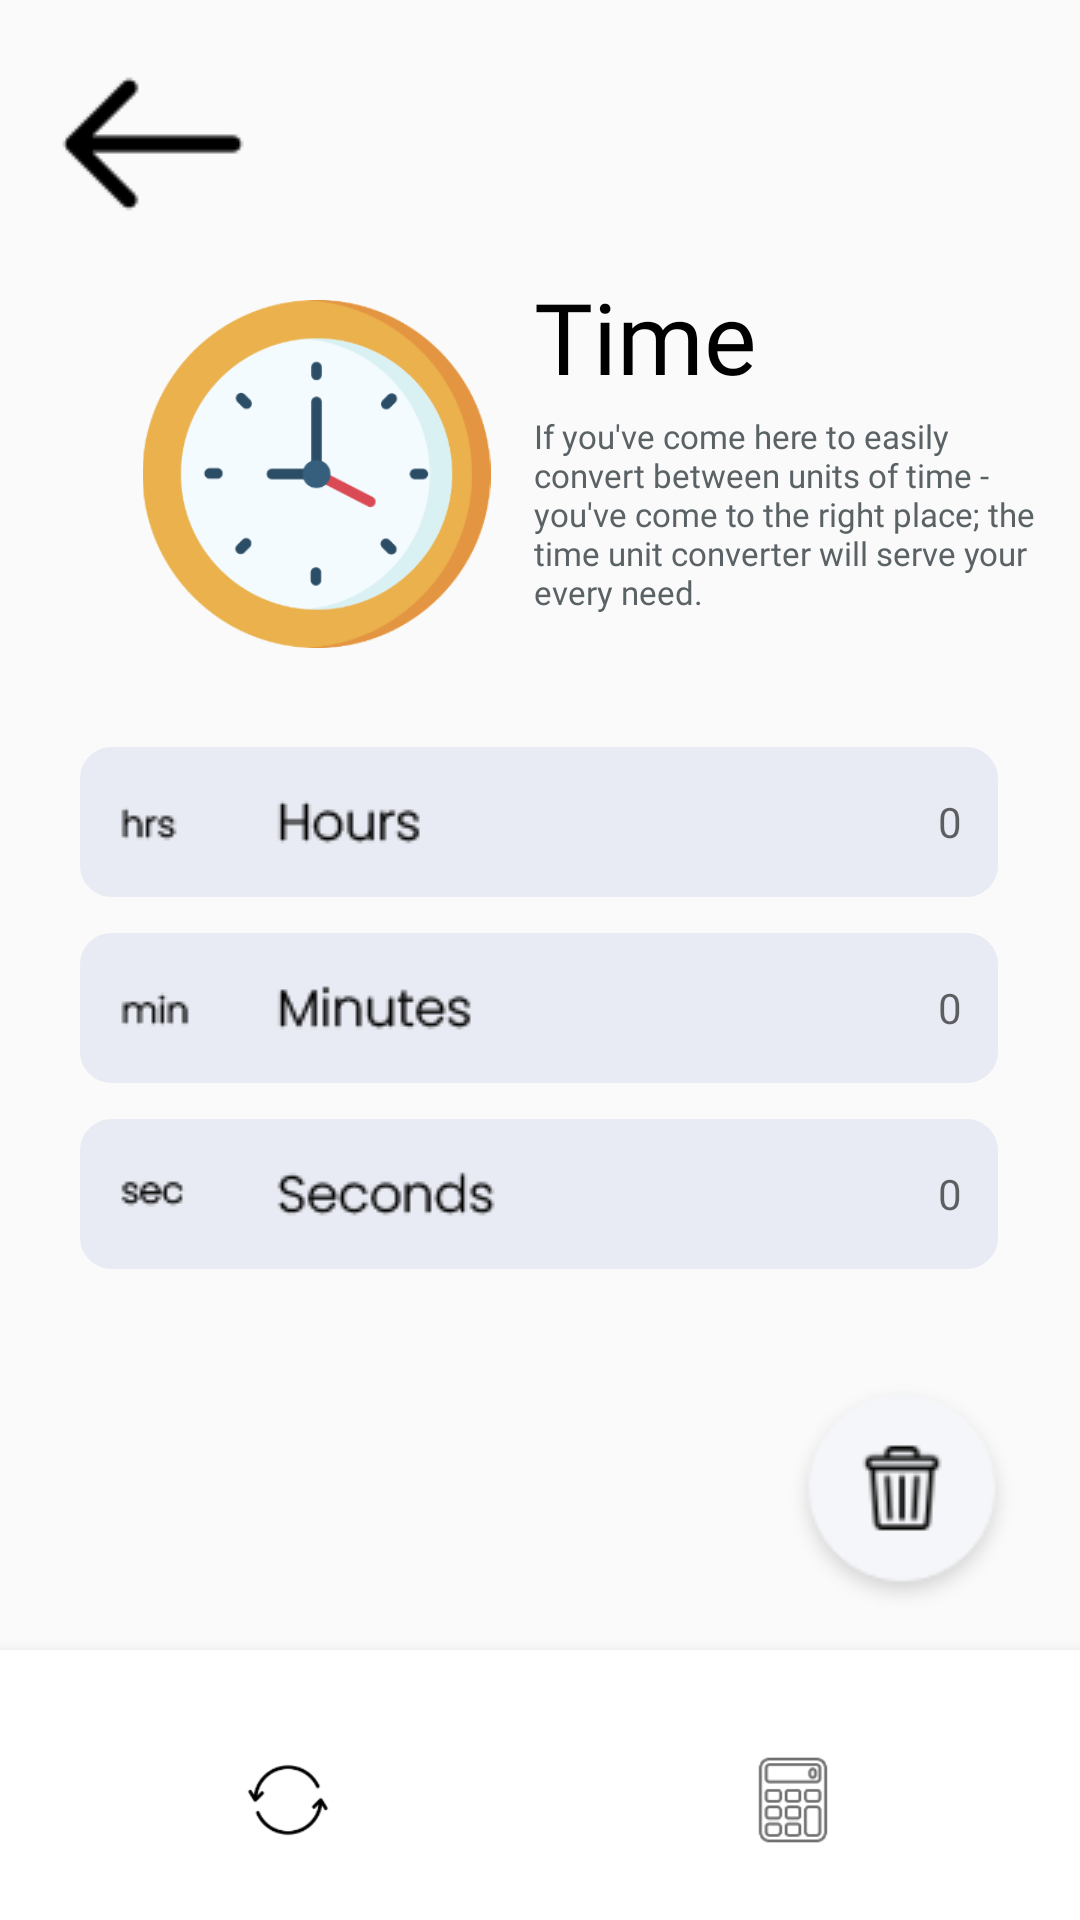

Where icons sit on this 1080px x 1920px app screen, as (x1, y1, x2, y2):
arrow: (63, 78, 243, 210)
clear: (828, 1445, 976, 1587)
